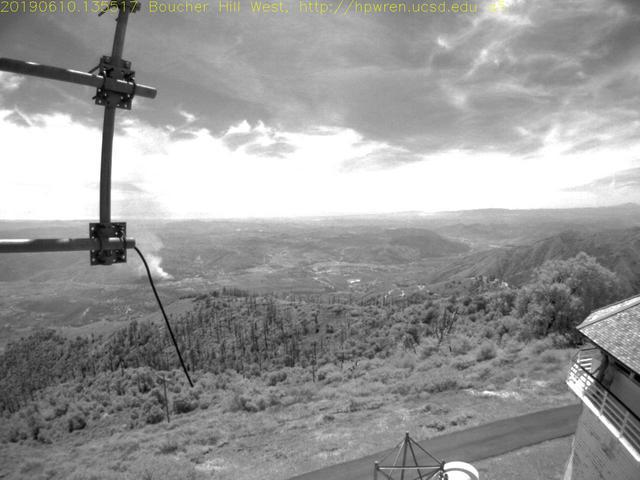smoke: (127, 195, 175, 285)
